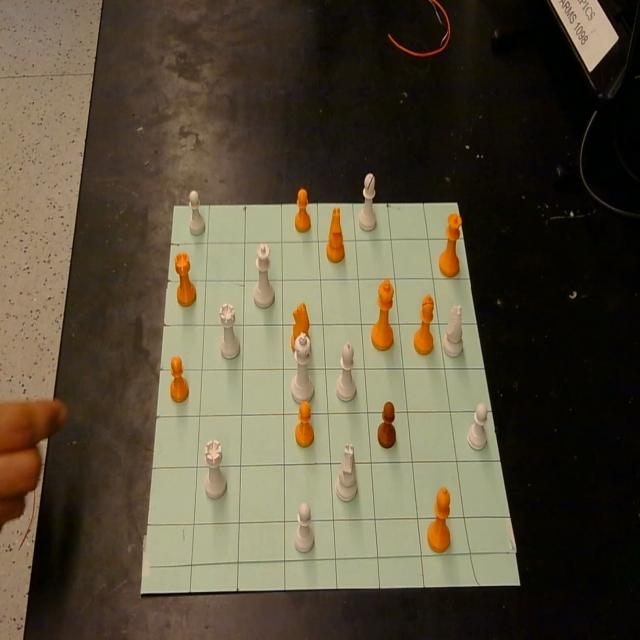orange_bishop: (427, 487, 452, 552), (414, 293, 434, 355)
orange_king: (371, 279, 393, 352)
orange_knight: (291, 301, 310, 355), (326, 207, 344, 262)
orange_pawn: (377, 400, 396, 448), (295, 400, 314, 447), (170, 354, 188, 402), (295, 187, 311, 232)
orange_queen: (439, 212, 462, 277)
orange_rook: (174, 250, 196, 306)
white_bishop: (336, 342, 356, 402), (358, 173, 376, 230)
white_king: (291, 332, 314, 403)
white_knight: (336, 444, 358, 502), (443, 303, 463, 357)
white_pawn: (466, 402, 488, 450), (294, 502, 314, 553), (188, 188, 205, 234)
white_queen: (253, 243, 274, 307)
white_rook: (205, 439, 227, 499), (219, 303, 240, 359)
